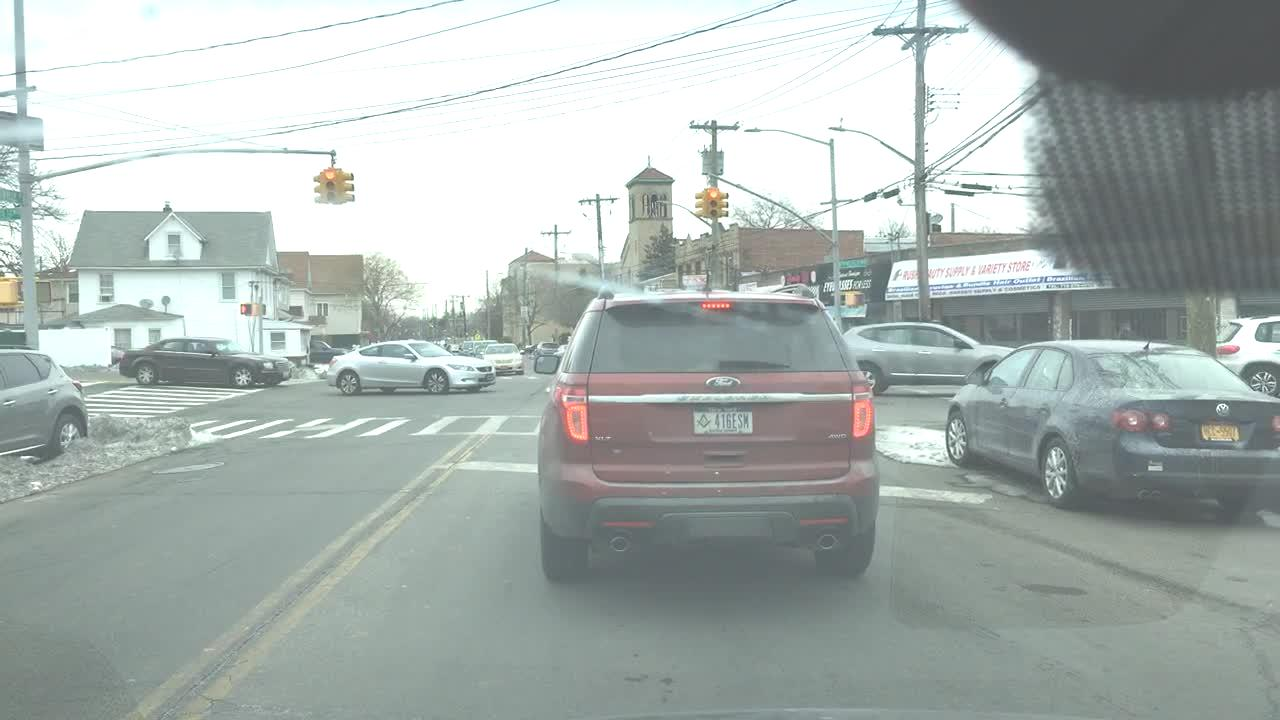Volkswagen: (1211, 401, 1235, 421)
ford: (703, 373, 745, 396)
